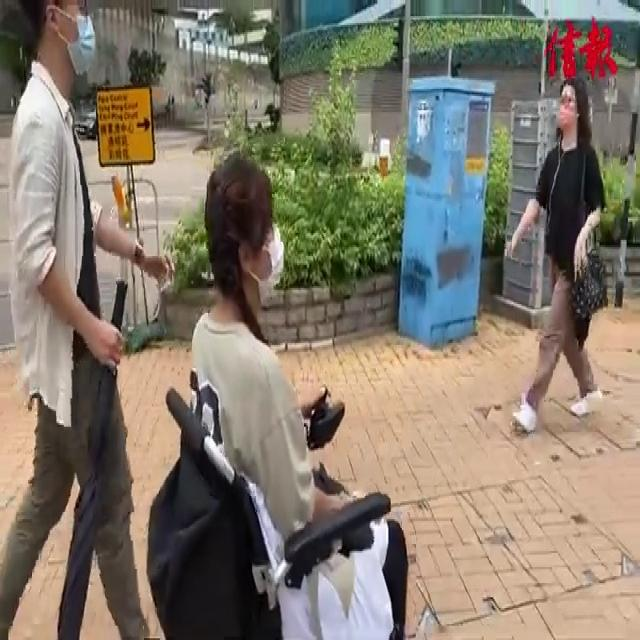wheelchairs: (125, 325, 418, 640)
